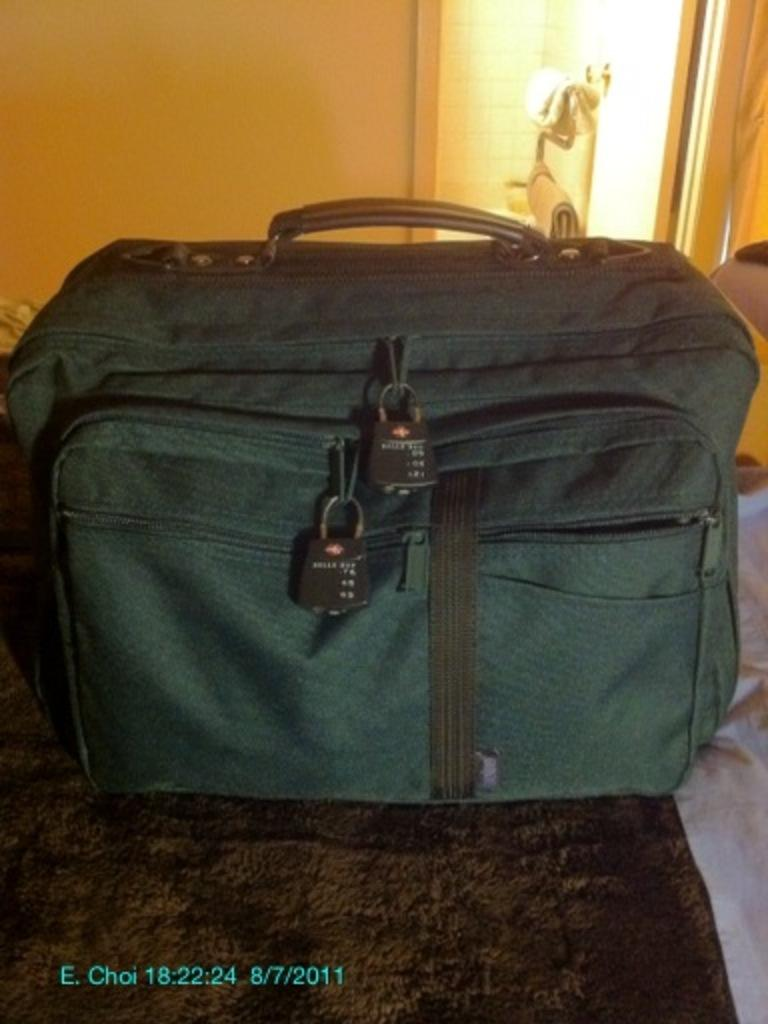Luggage-and-bags: (0, 194, 760, 802)
